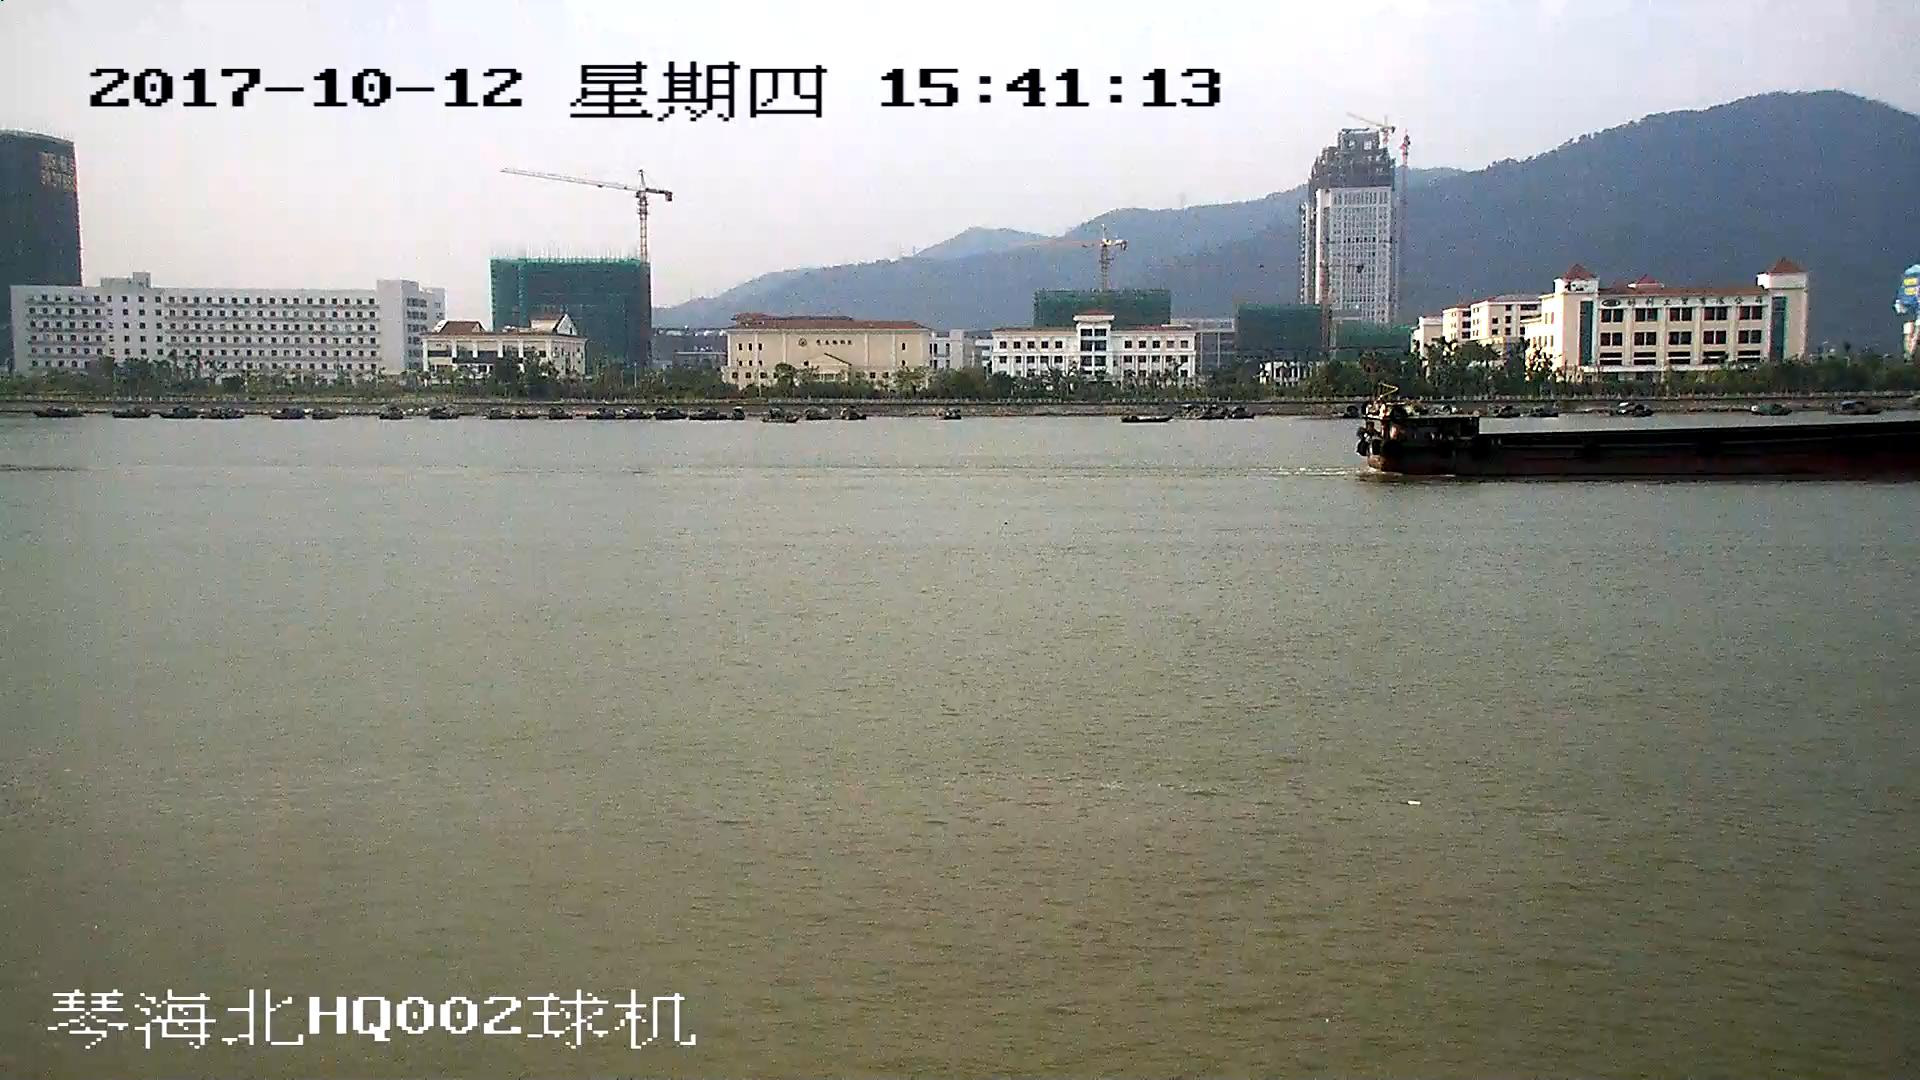general cargo ship: (1359, 398, 1920, 485)
